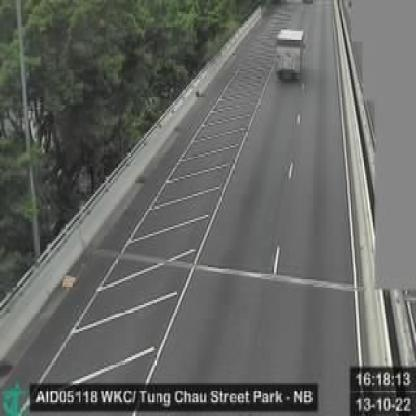Truck: (277, 28, 305, 82)
